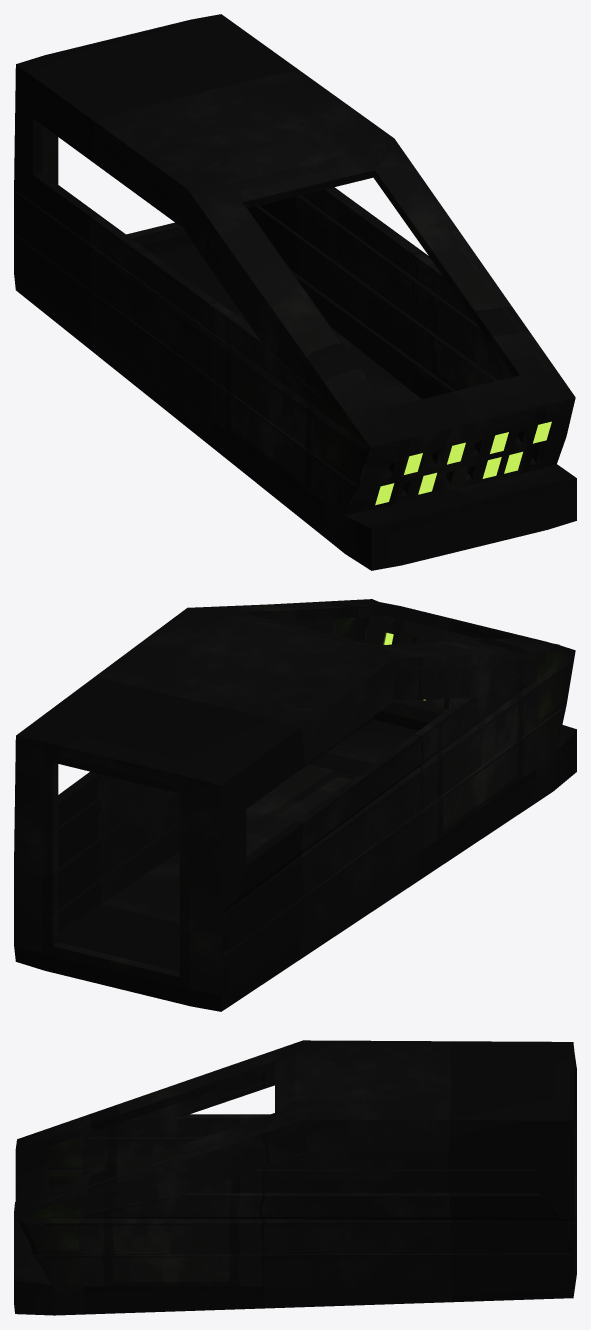
The model's file is escapepod.gltf.
The picture shows the model from 3 angles, top to bottom: view 1: azimuth 30°, elevation 25°; view 2: azimuth 150°, elevation 25°; view 3: azimuth 270°, elevation 25°; orthographic projection. The views are drawn at different scales.
Parts seen in each view (by area): view 1: escapepod-col; view 2: escapepod-col; view 3: escapepod-col.
Part boxes in pixels (bbox=[...]): escapepod-col: bbox=[14, 14, 576, 570]; escapepod-col: bbox=[14, 599, 576, 1011]; escapepod-col: bbox=[14, 1040, 576, 1315].
Bounding box in the file's own units: 85.61 × 97.15 × 248.
Materials: 2 (1 with a texture image).
